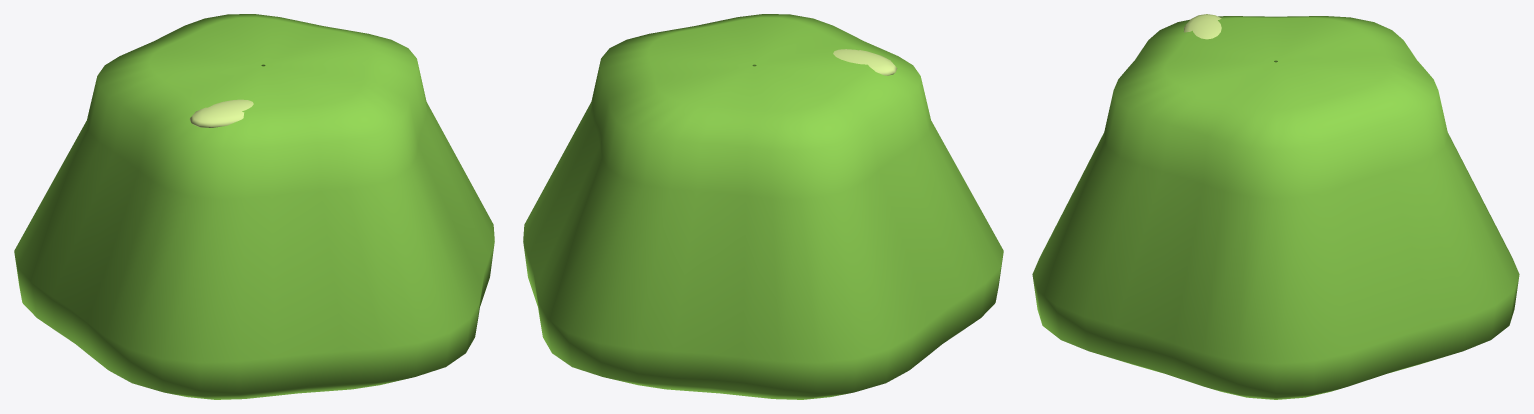
Rendered from jelly.glb.
The picture shows the model from 3 angles, left to right: view 1: azimuth 30°, elevation 25°; view 2: azimuth 150°, elevation 25°; view 3: azimuth 270°, elevation 25°; orthographic projection.
Visible parts, largest first — view 1: FlutedJelly, SoftGlint; view 2: FlutedJelly, SoftGlint; view 3: FlutedJelly, SoftGlint.
Boxes of the visible parts, box(x1,y1,x2,y2) form: FlutedJelly: box(14, 14, 494, 399); SoftGlint: box(189, 99, 253, 127); FlutedJelly: box(523, 14, 1003, 399); SoftGlint: box(833, 49, 897, 75); FlutedJelly: box(1032, 16, 1519, 399); SoftGlint: box(1183, 14, 1221, 39).
Bounding box in the file's own units: 0.4827 × 0.292 × 0.4942.
